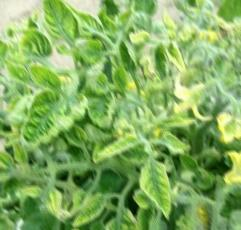Tomato leaf mosaic virus: (140, 160, 175, 220), (40, 0, 83, 47), (24, 105, 62, 144), (22, 30, 53, 62), (30, 68, 67, 92)
